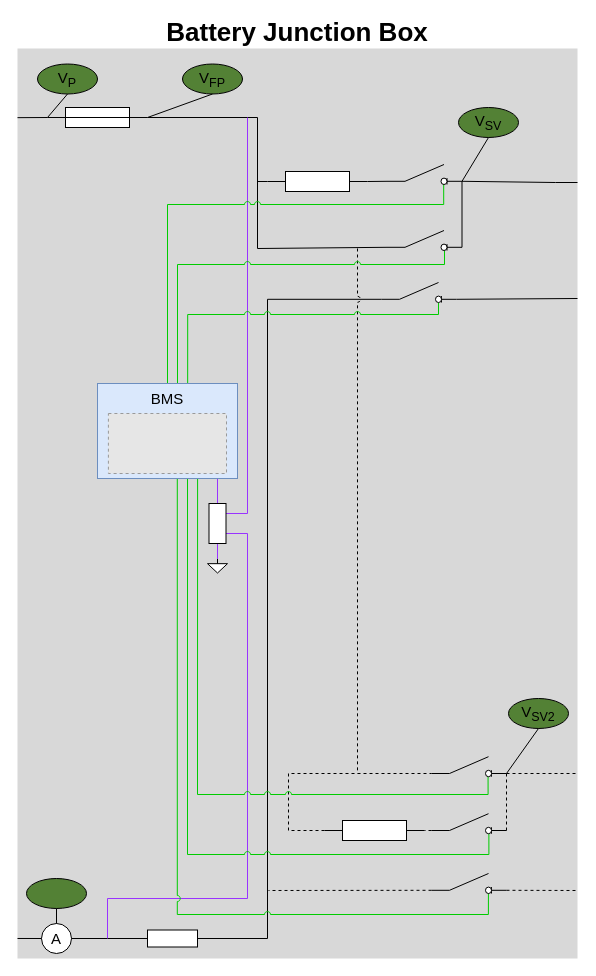
The diagram is 596 pixels wide and 976 high, and some of its shapes have lost their labels. Grey dashed boxes stand in for pictures. Here are the shapes that lost their labels. From the top down, the centre of each, then its label:
At point (217, 523): "IMD".
At point (56, 893): "I P".
At point (172, 938): "MSD".
